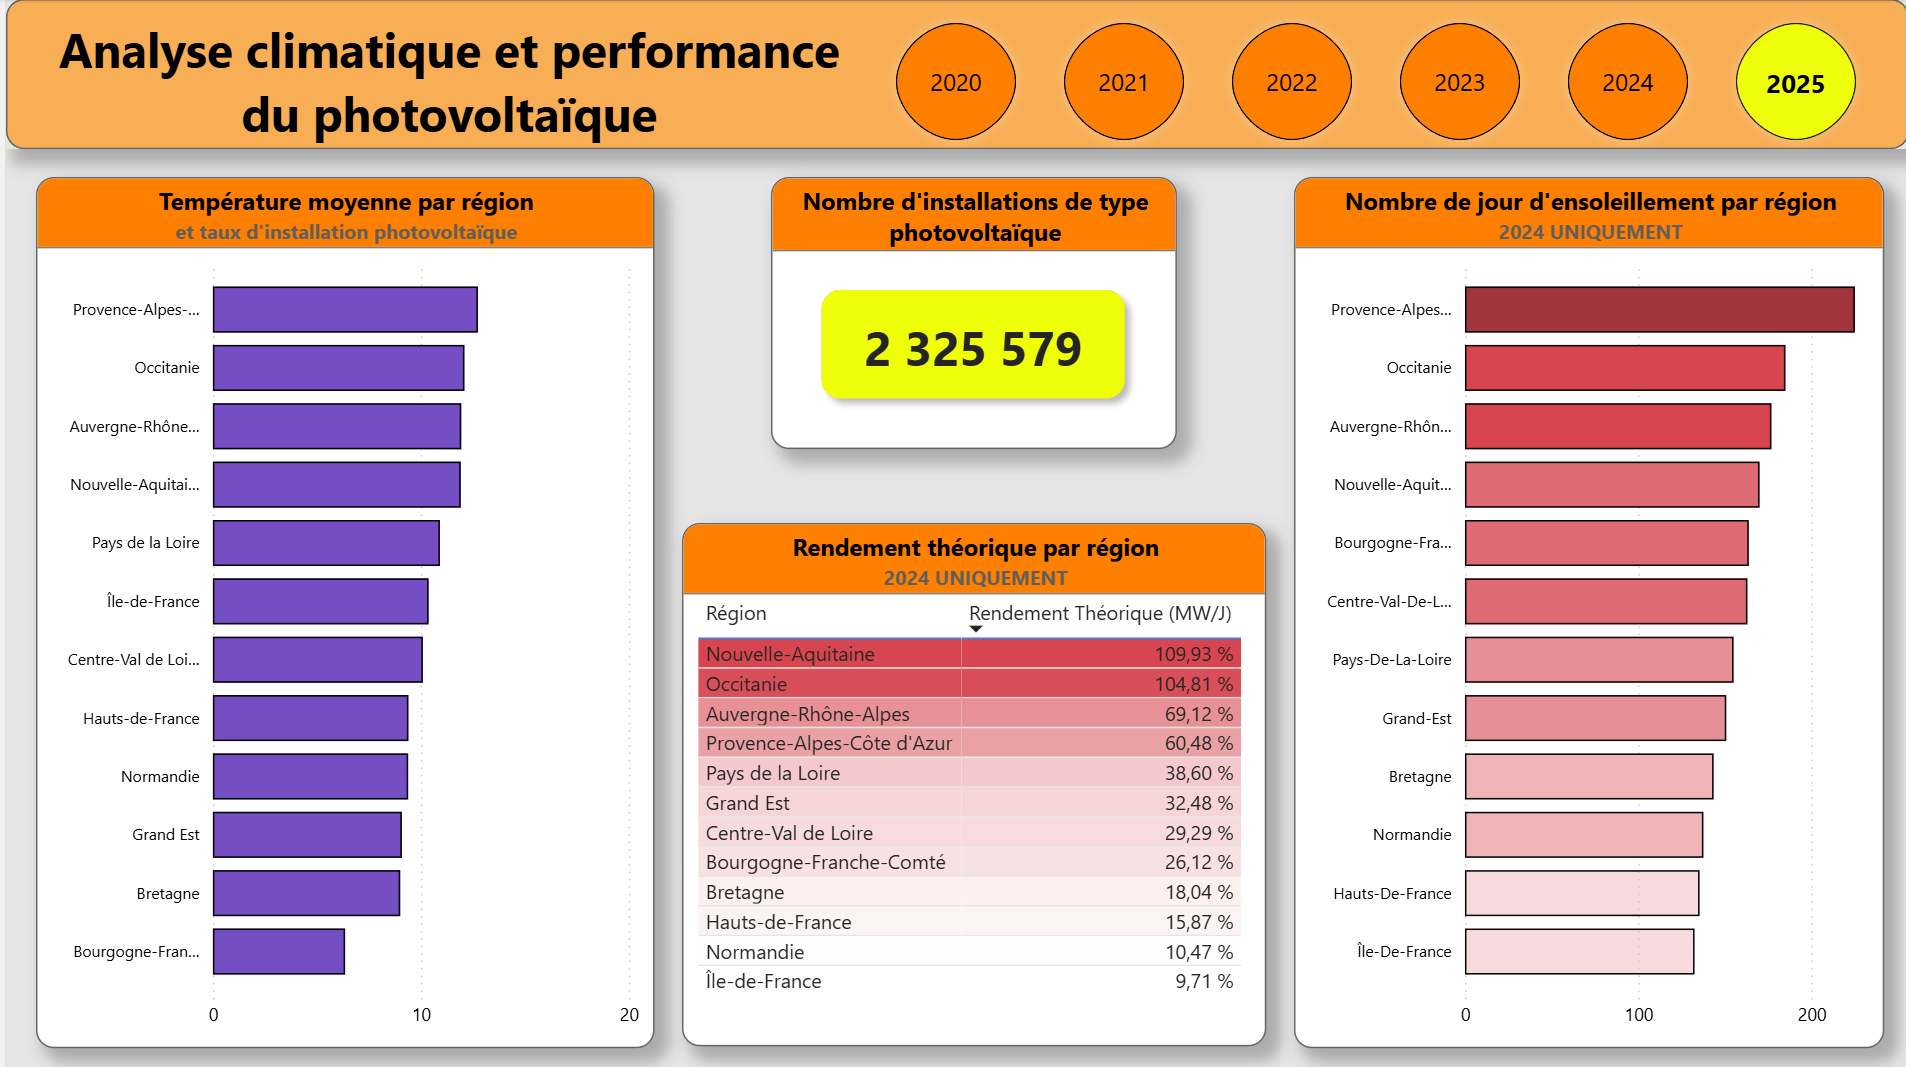

What the dashboard file says about the page in this screenshot:
{"tool":"powerbi","page":{"name":"Analyse climatique et performance photovoltaïque","canvas":[1280,720],"ordinal":2},"visuals":[{"type":"shape","box":[0,0,1280,101],"z":0},{"type":"cardVisual","title":"Nombre d''installations de type photovoltaïque","fields":{"Data":["Sum(Production énergie renouvelable.NOMBRE INSTALLATIONS)"]},"box":[514.7,119.5,272.9,182.6],"z":1000},{"type":"barChart","title":"Température moyenne par région","fields":{"Category":["Température moyenne France 2020‑2025.Région"],"Y":["Avg(Température moyenne France 2020‑2025.Tmoy)"]},"box":[20.4,119.5,415.7,585.6],"z":2000},{"type":"tableEx","title":"Rendement théorique par région","fields":{"Values":["Température moyenne France 2020‑2025.Région","Production énergie renouvelable.Rendement Théorique (MW/J)"]},"box":[454.5,352.5,393.3,351.6],"z":3000},{"type":"barChart","title":"Nombre de jour d''ensoleillement par région","fields":{"Y":["Avg(Temps d’ensoleillement 2024.Temps d'enseillement (jours/an))"],"Category":["Temps d’ensoleillement 2024.Région"]},"box":[866.3,119.5,397.2,585.6],"z":4000},{"type":"textbox","box":[14,6.6,568.2,97.3],"z":5000},{"type":"advancedSlicerVisual","fields":{"Values":["Calendrier.Date.Variation.Hiérarchie de dates.Année"]},"box":[582.6,0,682.5,111.1],"z":6000}]}

Visuals, with their boxes in screenshot pixels (x1, y1, x2, y2), scaled from the page's 1280x720 canvas onto the 1906x1067 screenshot:
shape: detection(0, 0, 1905, 150)
"Nombre d''installations de type photovoltaïque" cardVisual: detection(766, 177, 1173, 448)
"Température moyenne par région" barChart: detection(30, 177, 649, 1045)
"Rendement théorique par région" tableEx: detection(677, 522, 1262, 1043)
"Nombre de jour d''ensoleillement par région" barChart: detection(1290, 177, 1881, 1045)
textbox: detection(21, 10, 867, 154)
advancedSlicerVisual - Calendrier.Date.Variation.Hiérarchie de dates.Année: detection(868, 0, 1884, 165)
